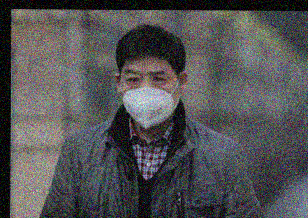with_mask: (119, 67, 180, 129)
